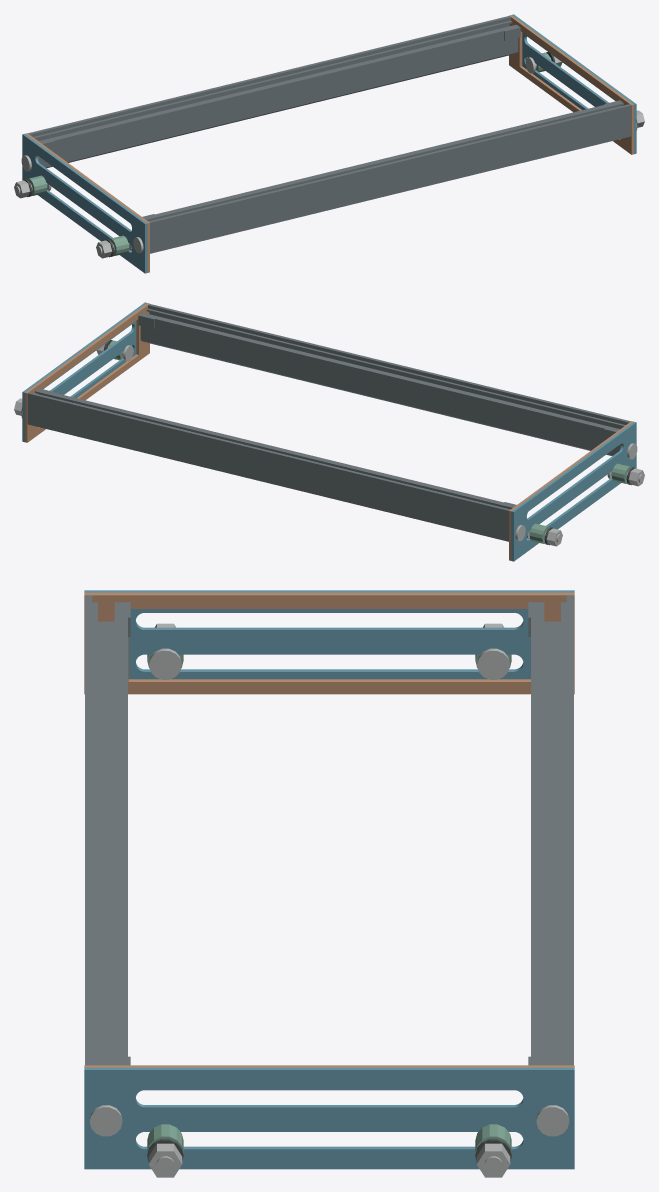
Rendered from A-frame-TW-01.glb.
3 renders of one model, top to bottom at view 1: azimuth 30°, elevation 25°; view 2: azimuth 150°, elevation 25°; view 3: azimuth 270°, elevation 25°, orthographic. The views are drawn at different scales.
Parts seen in each view (by area): view 1: base; view 2: base; view 3: base.
Part boxes in pixels (bbox=[...]): base: bbox=[14, 14, 644, 273]; base: bbox=[14, 302, 644, 561]; base: bbox=[84, 590, 574, 1177].
Size of the model in its own units: 0.344 by 0.03 by 0.1345.
